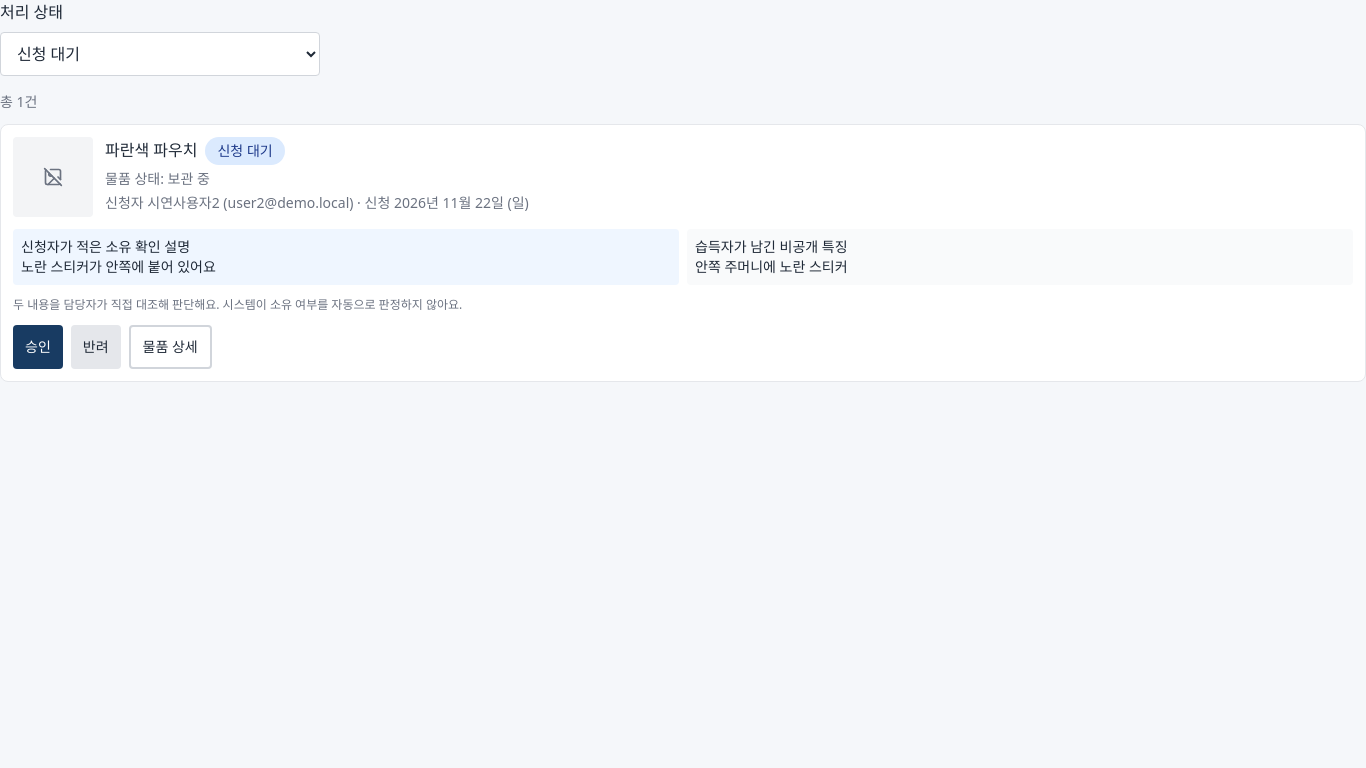
AdminReturnRequests › 다른 관리자가 먼저 처리해 서버가 409를 주면 이유를 보여준다
The image size is (1366, 768).
Click the button "승인" at (38, 347), box [13,325,63,369]
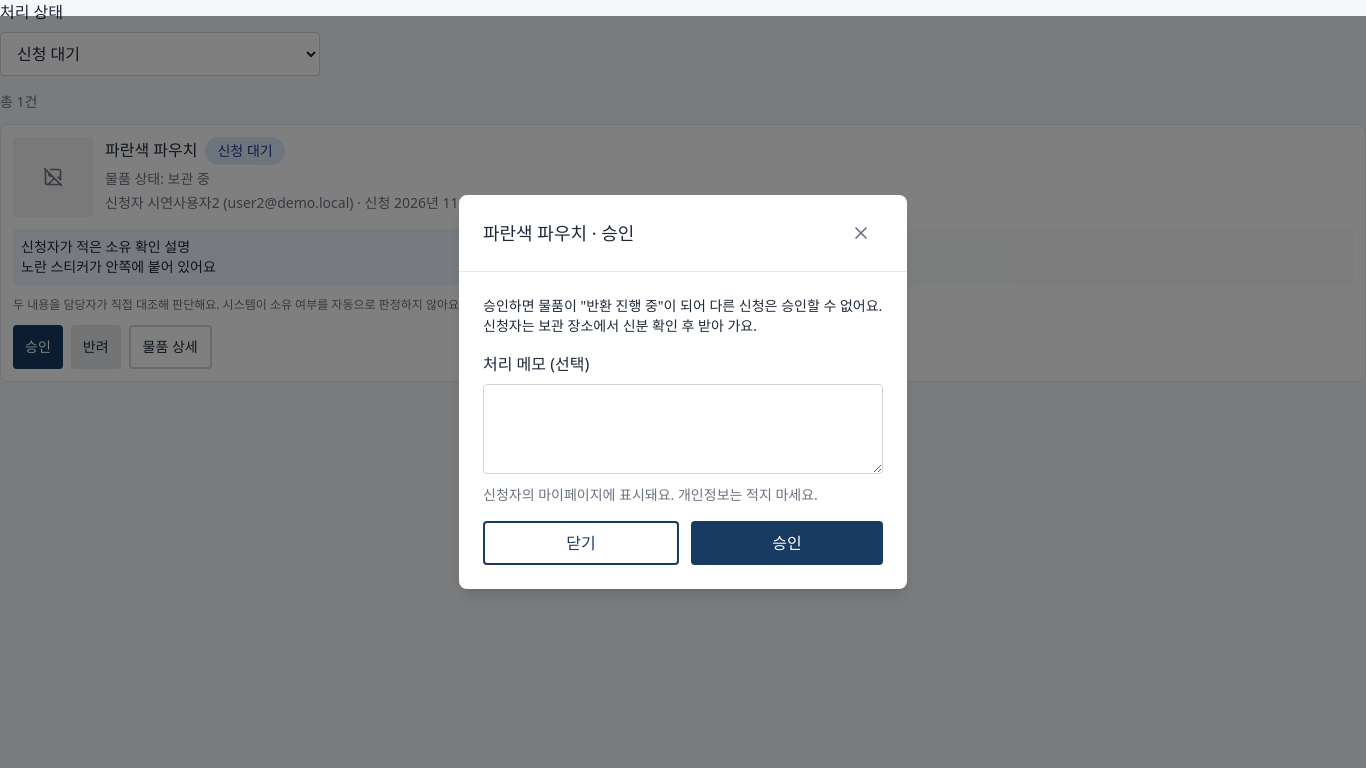
Click the submit button at (787, 543), box [691,521,883,565]
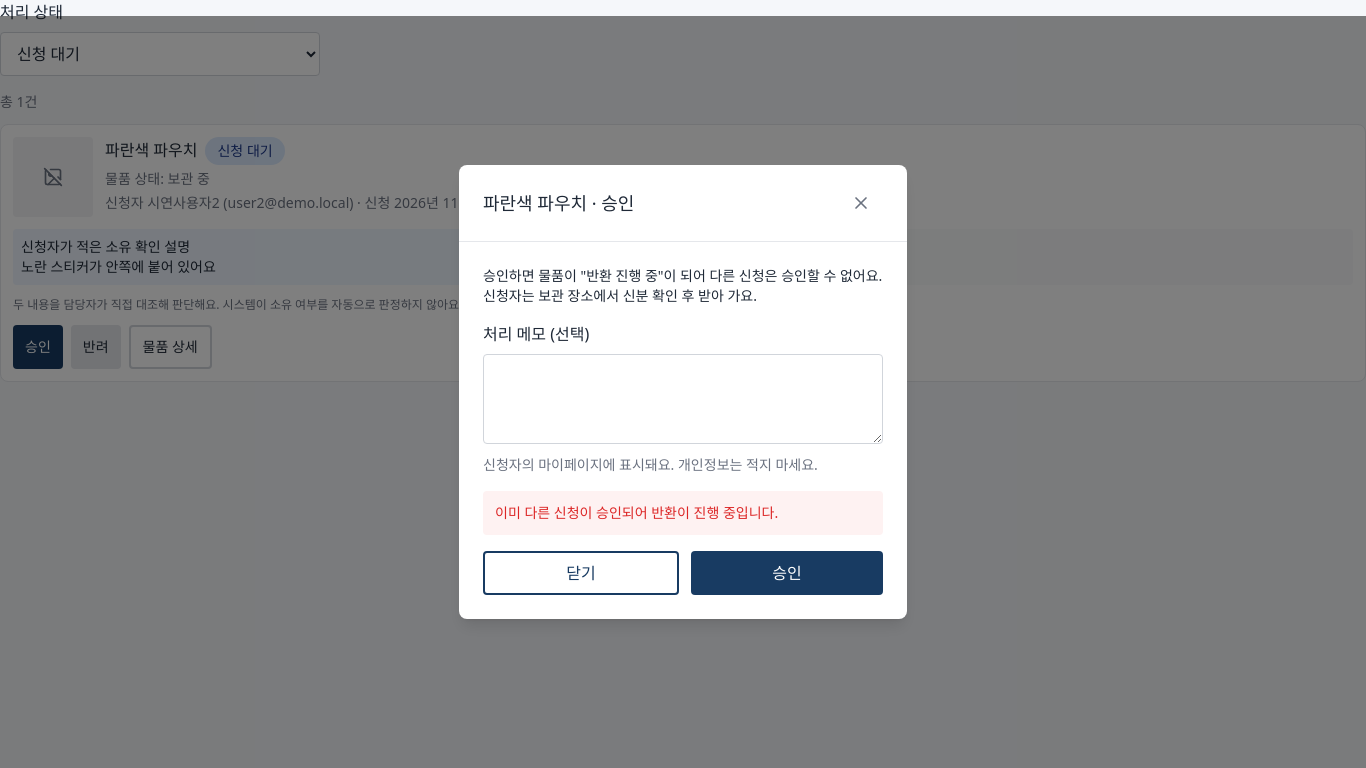
Expected: the message reads "이미 다른 신청이 승인되어 반환이 진행 중입니다.", [495,503,778,522]
